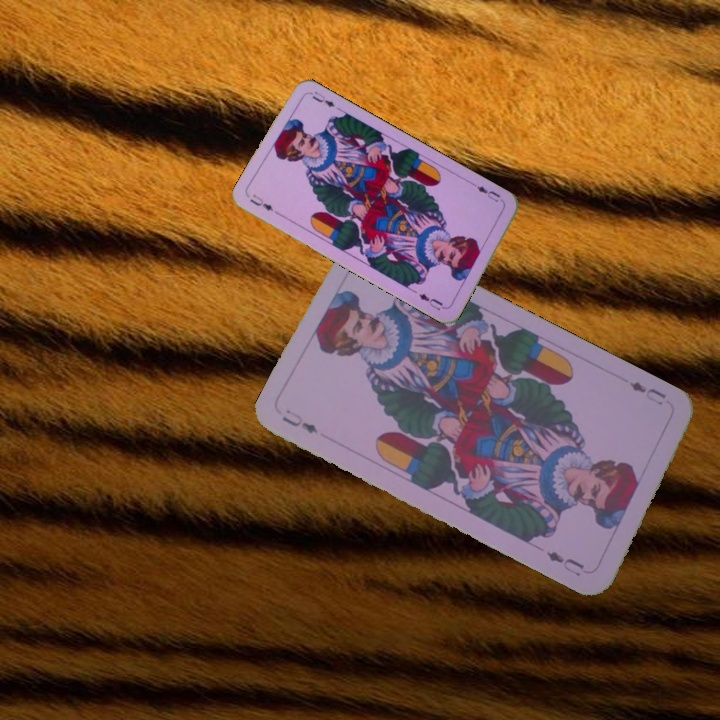EU: (278, 405, 321, 437), (625, 377, 669, 408), (473, 182, 506, 205), (246, 190, 276, 214)
